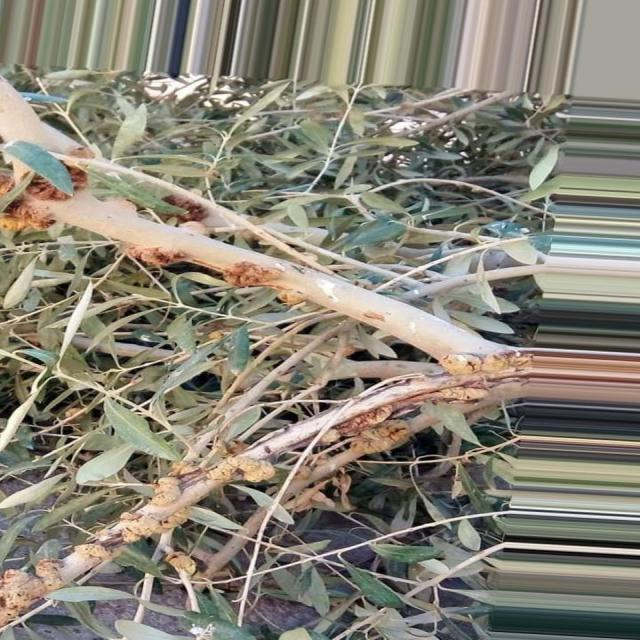Tuberculosis: (334, 381, 491, 438), (0, 558, 64, 626), (110, 502, 191, 542), (438, 348, 532, 378), (200, 453, 276, 486), (349, 420, 415, 457), (222, 262, 281, 288), (124, 244, 184, 268), (148, 476, 178, 508), (164, 551, 198, 576)
